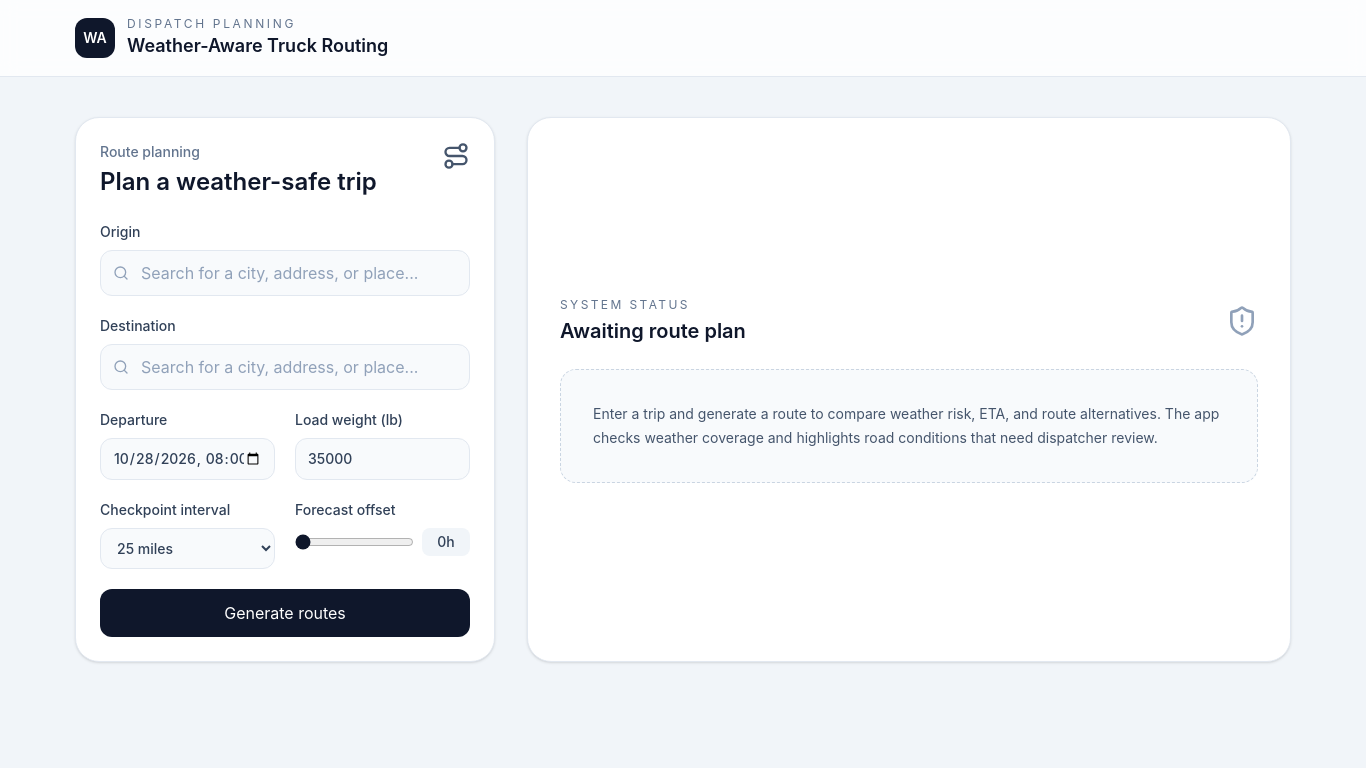
App › validates required form fields
Step 1. Click the button "Generate routes" → (285, 613), box [100,589,470,637]
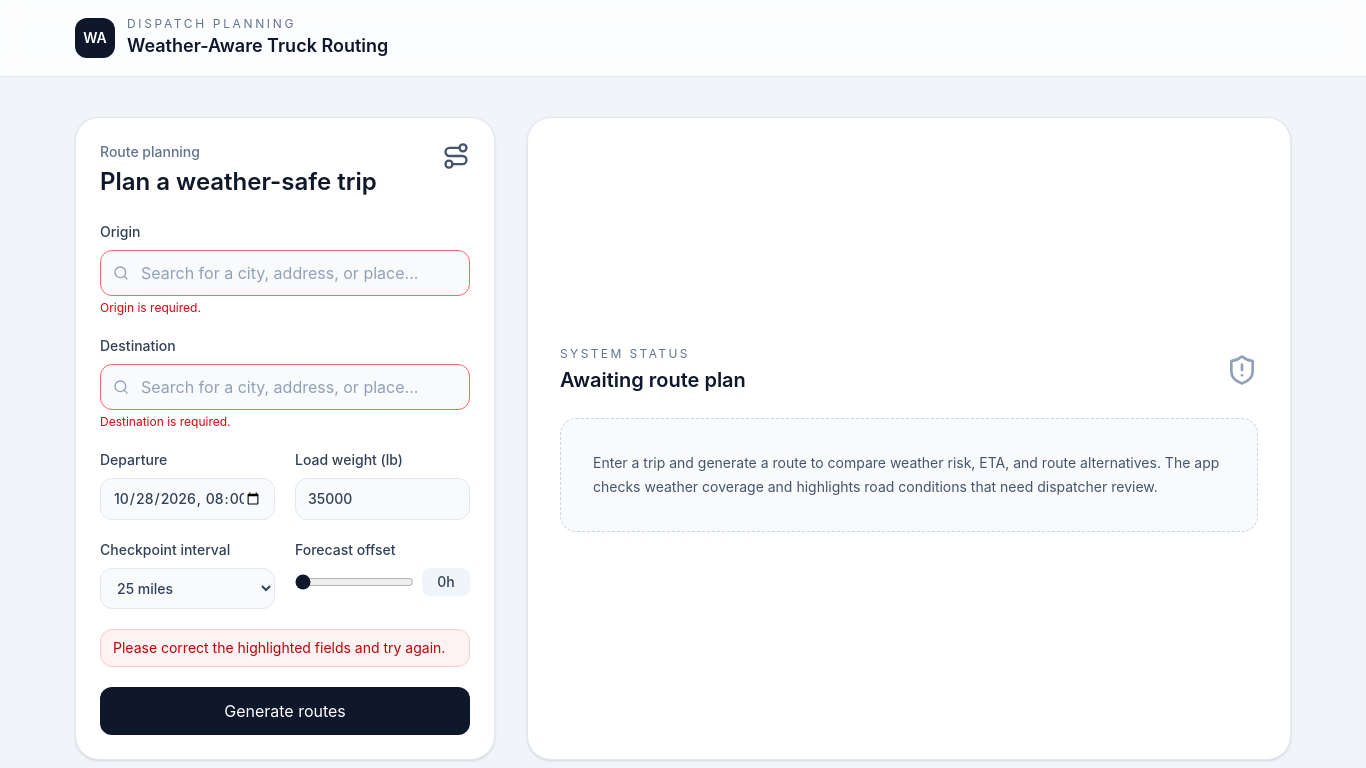
Expected: the text "Origin is required." is shown, [100,300,201,315]
